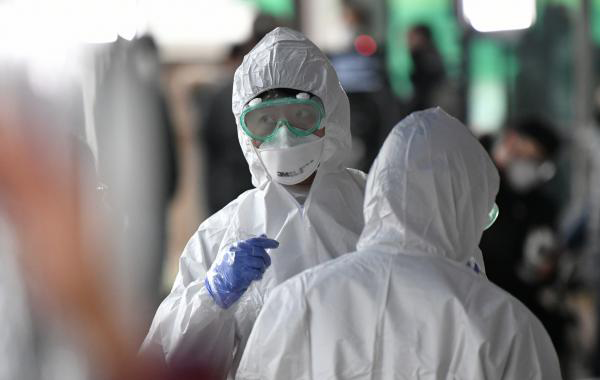Coverall: (236, 107, 559, 378), (147, 27, 363, 360)
Gloves: (200, 233, 279, 309)
Goggles: (239, 94, 326, 139)
with_mask: (254, 115, 324, 186)
